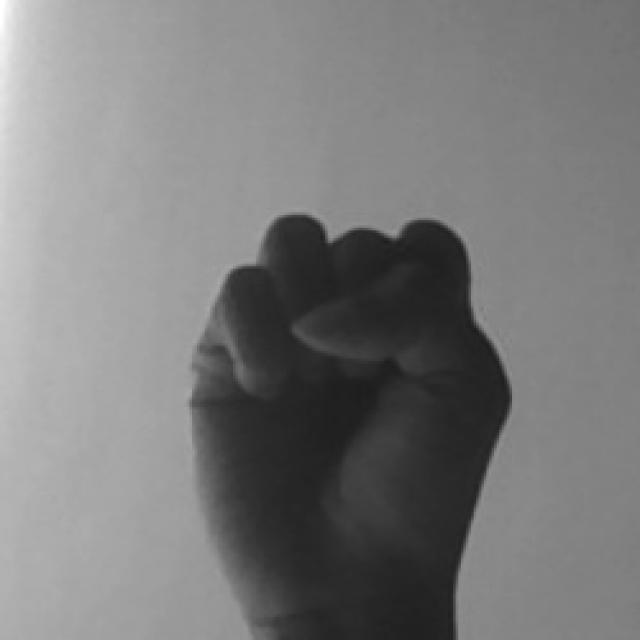S: (184, 207, 517, 640)
